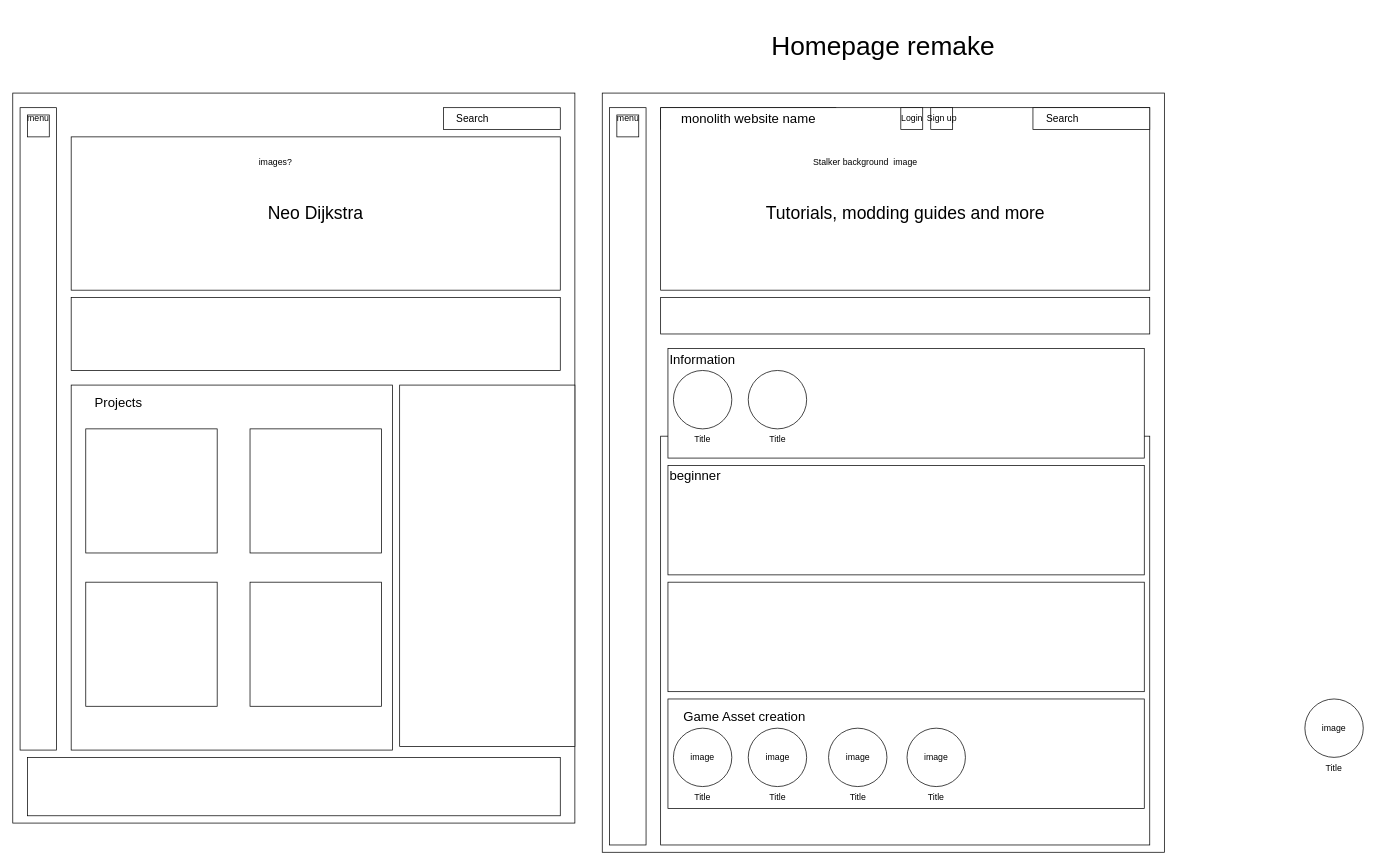
This 1376x865 diagram has some shape labels left out. Each missing label, with the box of its shape:
FOOTER: (27, 757, 560, 816)
LLM Chat: (399, 384, 575, 746)
short intro text about myself: (70, 297, 560, 370)
short intro text about the sites purpose: (660, 297, 1150, 334)
